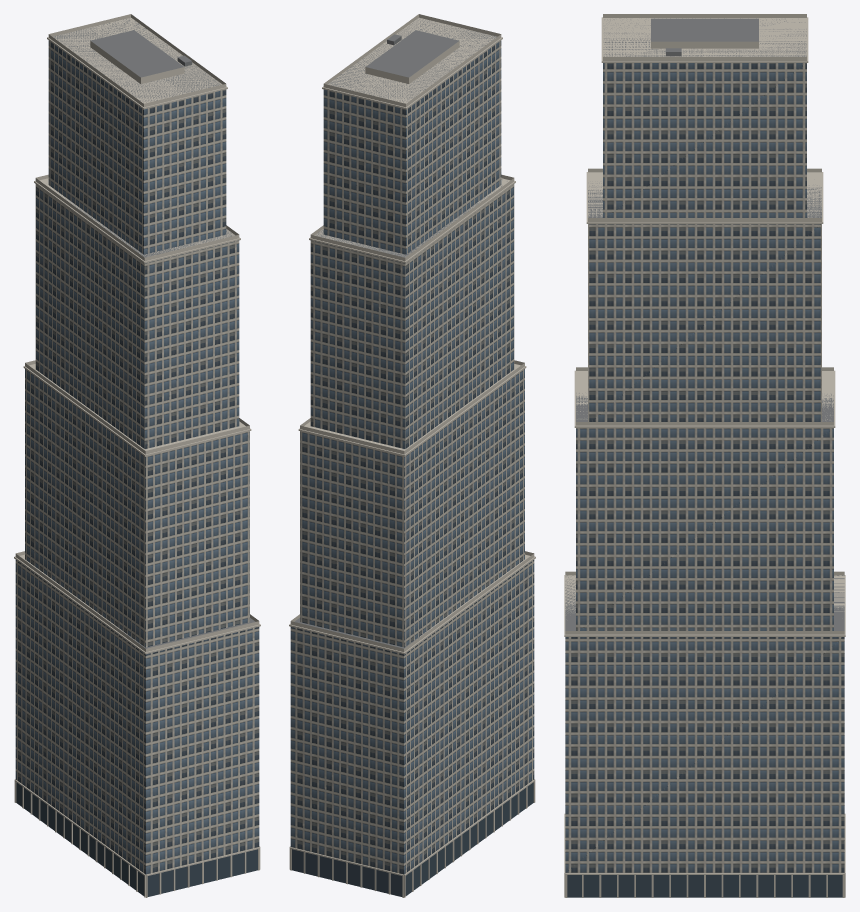
The model's file is hudson_yards_50.glb.
3 renders of one model, left to right at view 1: azimuth 30°, elevation 25°; view 2: azimuth 150°, elevation 25°; view 3: azimuth 270°, elevation 25°, orthographic. The views are drawn at different scales.
Parts seen in each view (by area): view 1: hudson_yards_50; view 2: hudson_yards_50; view 3: hudson_yards_50.
Part boxes in pixels (left/top/right/bottom): hudson_yards_50: left=14, top=14, right=260, bottom=897; hudson_yards_50: left=289, top=14, right=535, bottom=897; hudson_yards_50: left=564, top=14, right=845, bottom=897.
Bounding box in the file's own units: 47.6 × 308 × 93.82.
2 materials, 2 textured.
